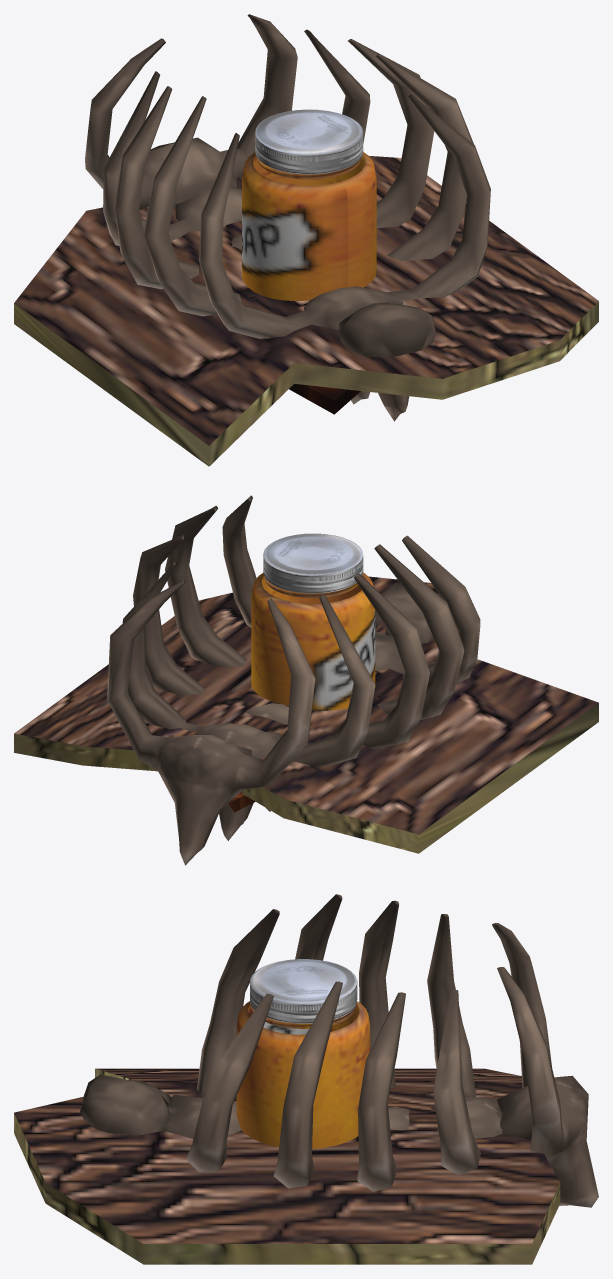
Rendered from loggingChucked_ItemModels.fbx.
3 renders of one model, top to bottom at view 1: azimuth 30°, elevation 25°; view 2: azimuth 150°, elevation 25°; view 3: azimuth 270°, elevation 25°, orthographic. The views are drawn at different scales.
Visible parts, largest first — view 1: TreeBark, AnimalBones, JarSap, LeatherScraps; view 2: AnimalBones, TreeBark, JarSap; view 3: TreeBark, AnimalBones, JarSap.
Part boxes in pixels (x1,y1,x2,y2): TreeBark: [14, 156, 598, 466]; AnimalBones: [85, 14, 490, 421]; JarSap: [242, 109, 376, 301]; LeatherScraps: [250, 296, 360, 414]; AnimalBones: [107, 495, 480, 865]; TreeBark: [14, 576, 598, 853]; JarSap: [251, 533, 375, 710]; TreeBark: [14, 1068, 560, 1264]; AnimalBones: [80, 894, 598, 1207]; JarSap: [236, 959, 370, 1148].
Size of the model in its own units: 0.6974 by 0.4663 by 0.8565.
